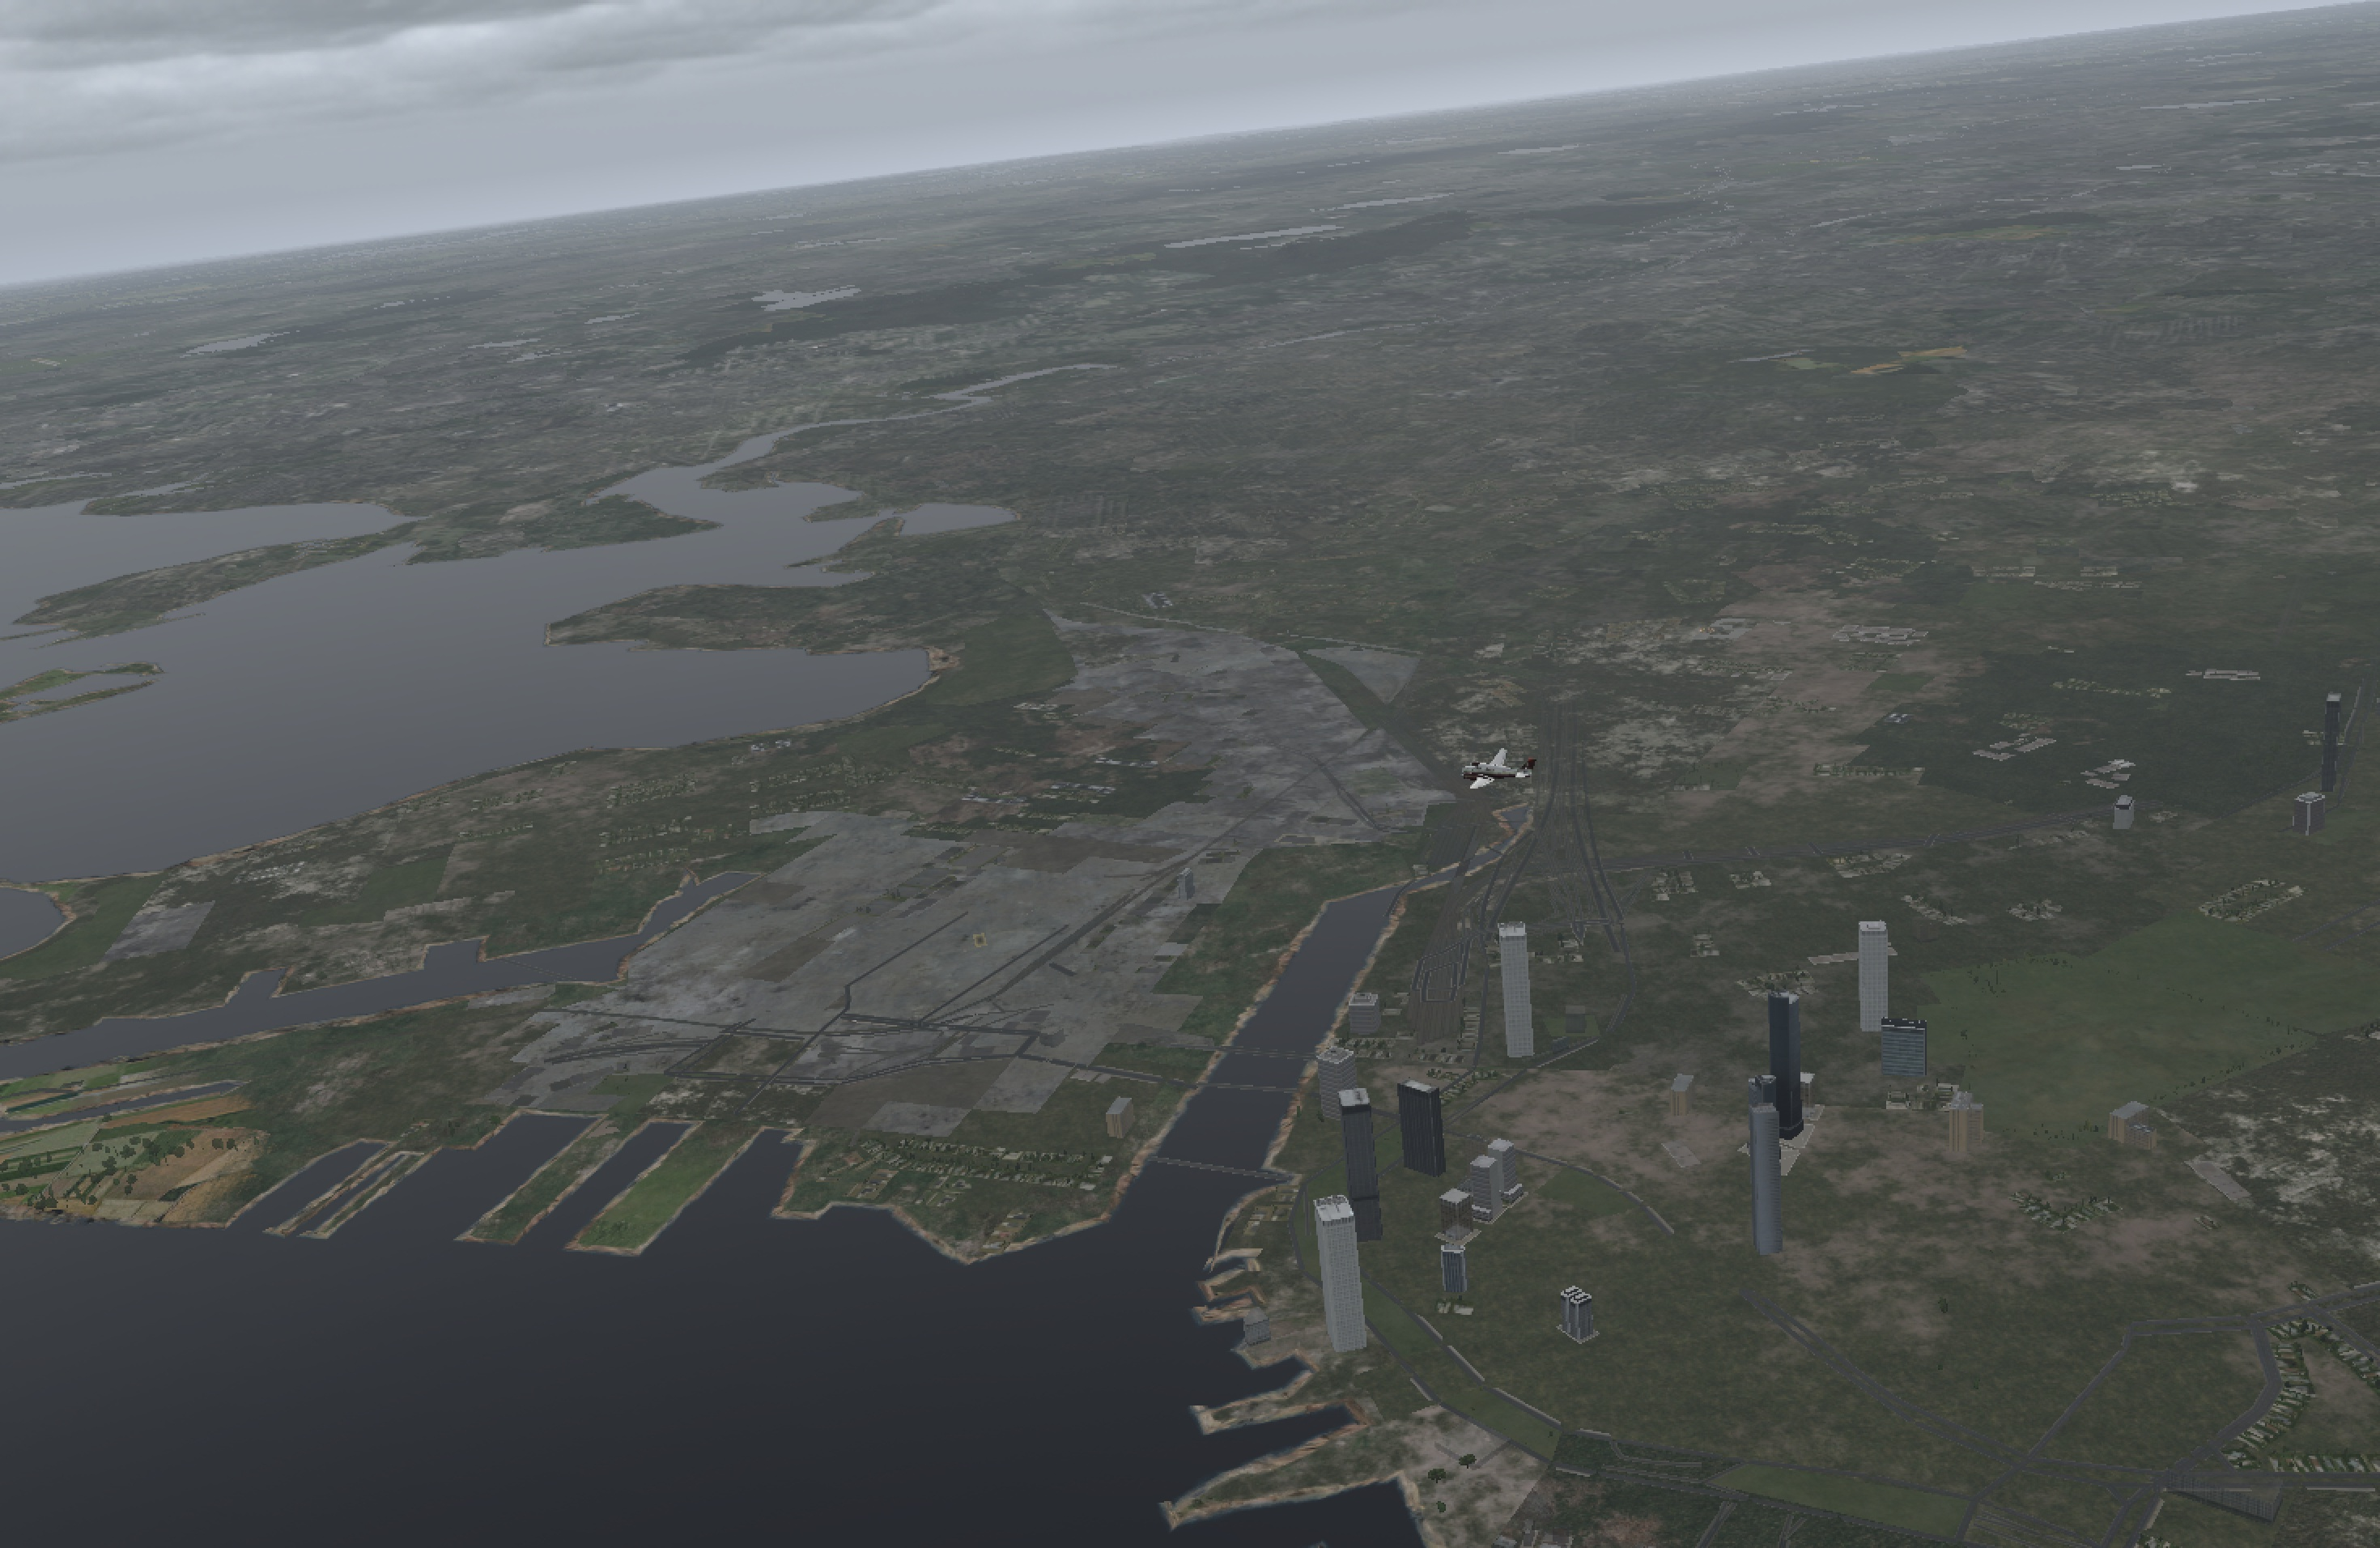aircraft: (1429, 753, 1540, 795)
